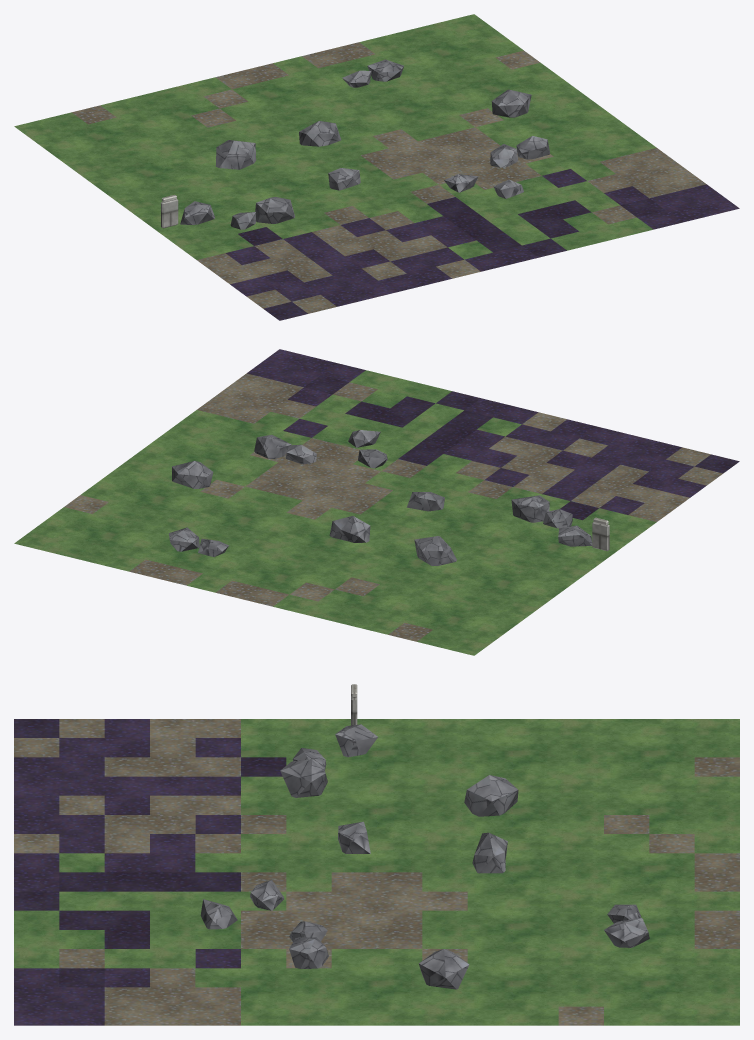
File: chunk_0_22.glb
The picture shows the model from 3 angles, top to bottom: view 1: azimuth 30°, elevation 25°; view 2: azimuth 150°, elevation 25°; view 3: azimuth 270°, elevation 25°; orthographic projection. The views are drawn at different scales.
Parts seen in each view (by area): view 1: chunk_0_22; view 2: chunk_0_22; view 3: chunk_0_22.
Part boxes in pixels (<box>): chunk_0_22: <box>14,14,739,320</box>; chunk_0_22: <box>14,349,739,655</box>; chunk_0_22: <box>14,684,739,1025</box>.
Size of the model in its own units: 16 by 1.39 by 16.
7 materials, 7 textured.
